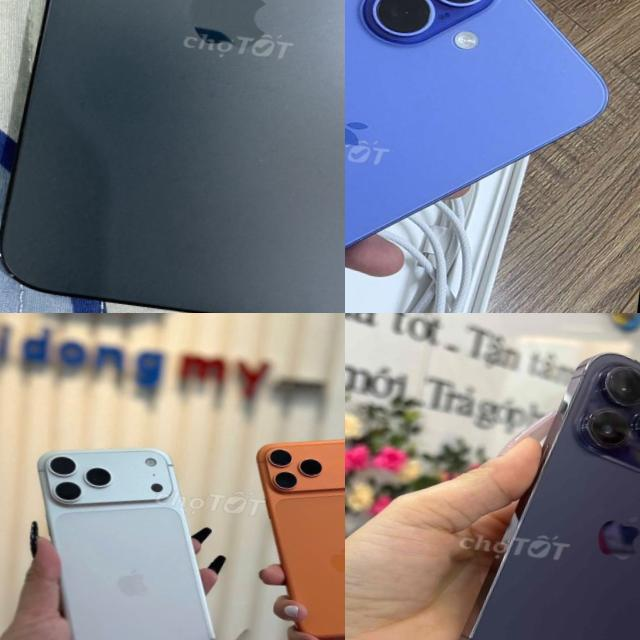gen_12_13: (0, 0, 345, 313)
gen_14: (445, 333, 640, 640)
gen_16: (345, 0, 607, 247)
gen_17: (238, 430, 345, 640)
